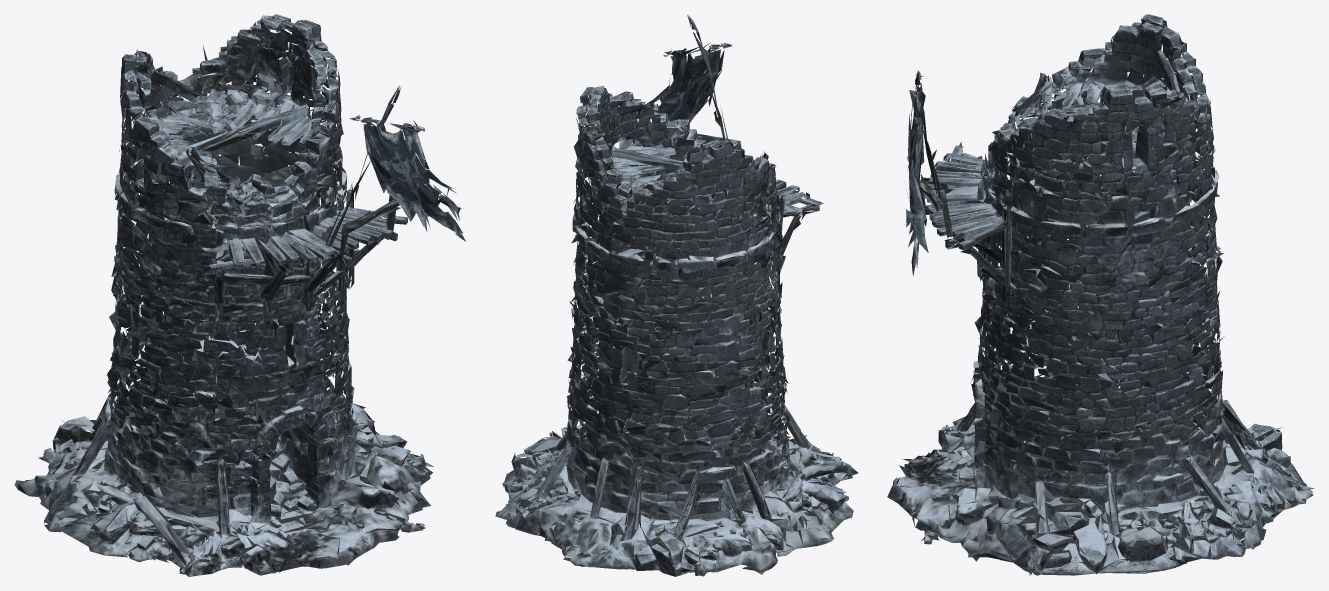
The model's file is tower.glb.
The picture shows the model from 3 angles, left to right: view 1: azimuth 30°, elevation 25°; view 2: azimuth 150°, elevation 25°; view 3: azimuth 270°, elevation 25°; orthographic projection. The views are drawn at different scales.
Visible parts, largest first — view 1: Mesh_0; view 2: Mesh_0; view 3: Mesh_0.
Boxes of the visible parts, bbox=[...] form: Mesh_0: bbox=[14, 14, 465, 576]; Mesh_0: bbox=[495, 15, 858, 576]; Mesh_0: bbox=[887, 14, 1313, 575].
Bounding box in the file's own units: 7.2 × 8.98 × 7.52.
Materials: 1 (1 with a texture image).
